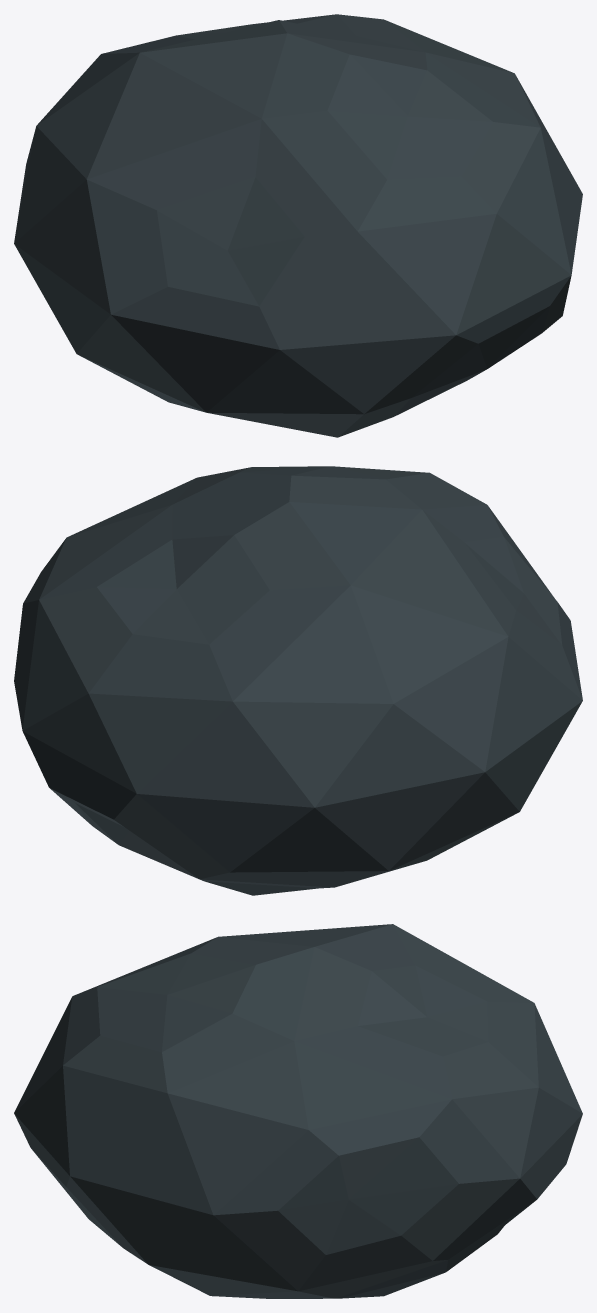
Rendered from Asteroide 2.fbx.
The picture shows the model from 3 angles, top to bottom: view 1: azimuth 30°, elevation 25°; view 2: azimuth 150°, elevation 25°; view 3: azimuth 270°, elevation 25°; orthographic projection. The views are drawn at different scales.
Visible parts, largest first — view 1: Icosphere.007; view 2: Icosphere.007; view 3: Icosphere.007.
Boxes of the visible parts, <box> form: Icosphere.007: <box>14,14,582,437</box>; Icosphere.007: <box>14,466,582,895</box>; Icosphere.007: <box>14,924,582,1298</box>.
Bounding box in the file's own units: 361 × 259 × 409.
1 material, 1 textured.
